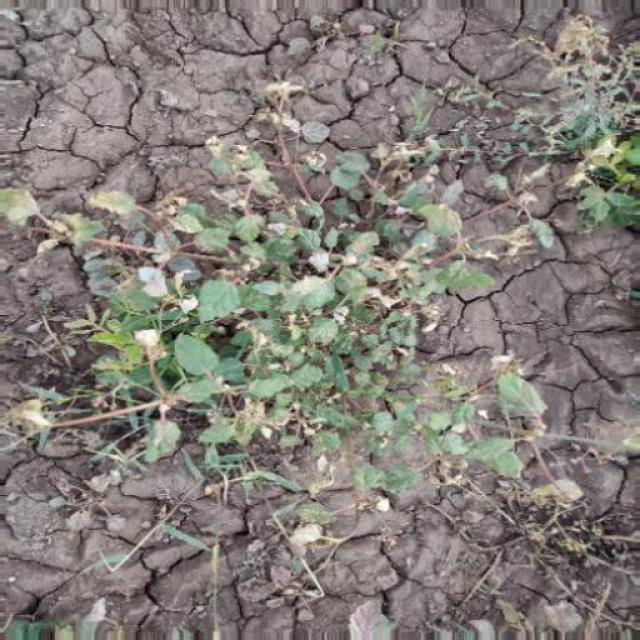weed: (15, 114, 499, 488), (540, 22, 640, 230)
